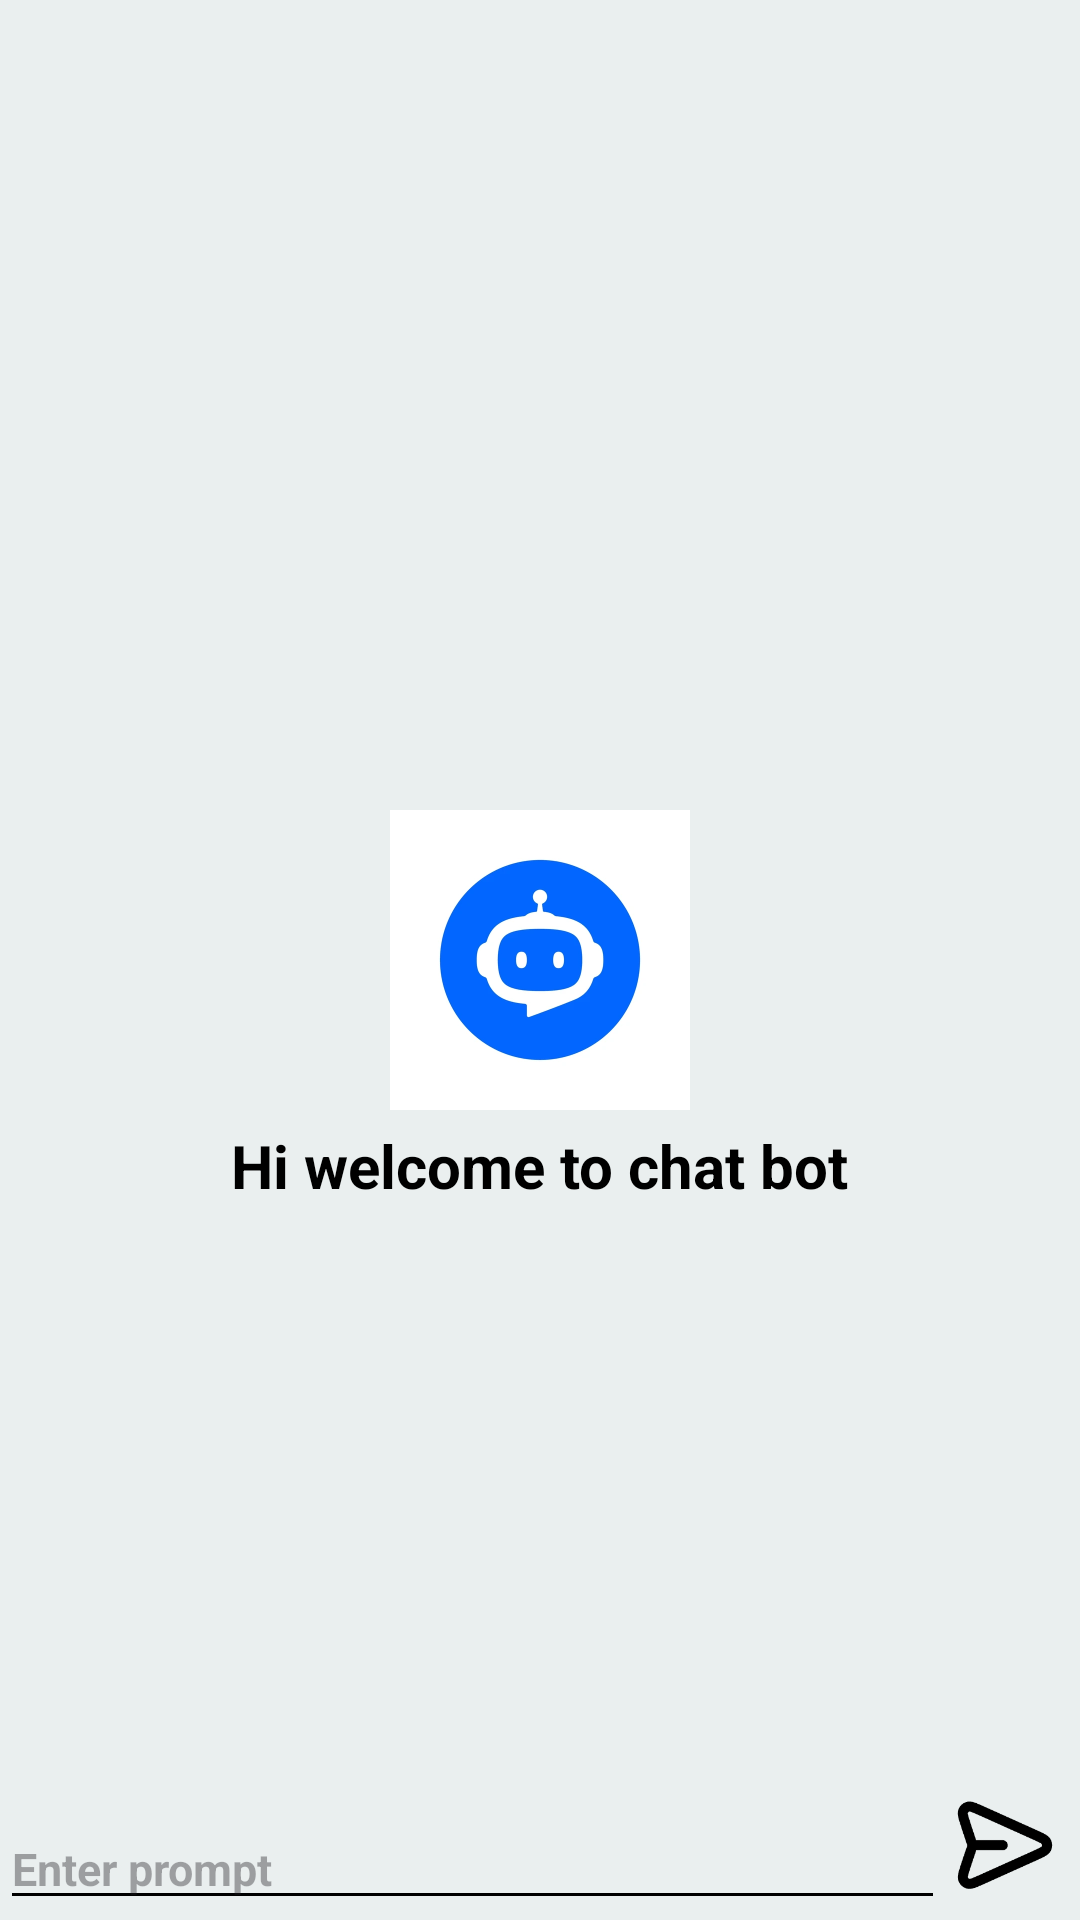

Icon bounding boxes for this 1080w x 1920h phone screenshot, format [x1=x1, y1=y1, x2=x2, y2=y2]:
send: [x1=957, y1=1801, x2=1053, y2=1889]
